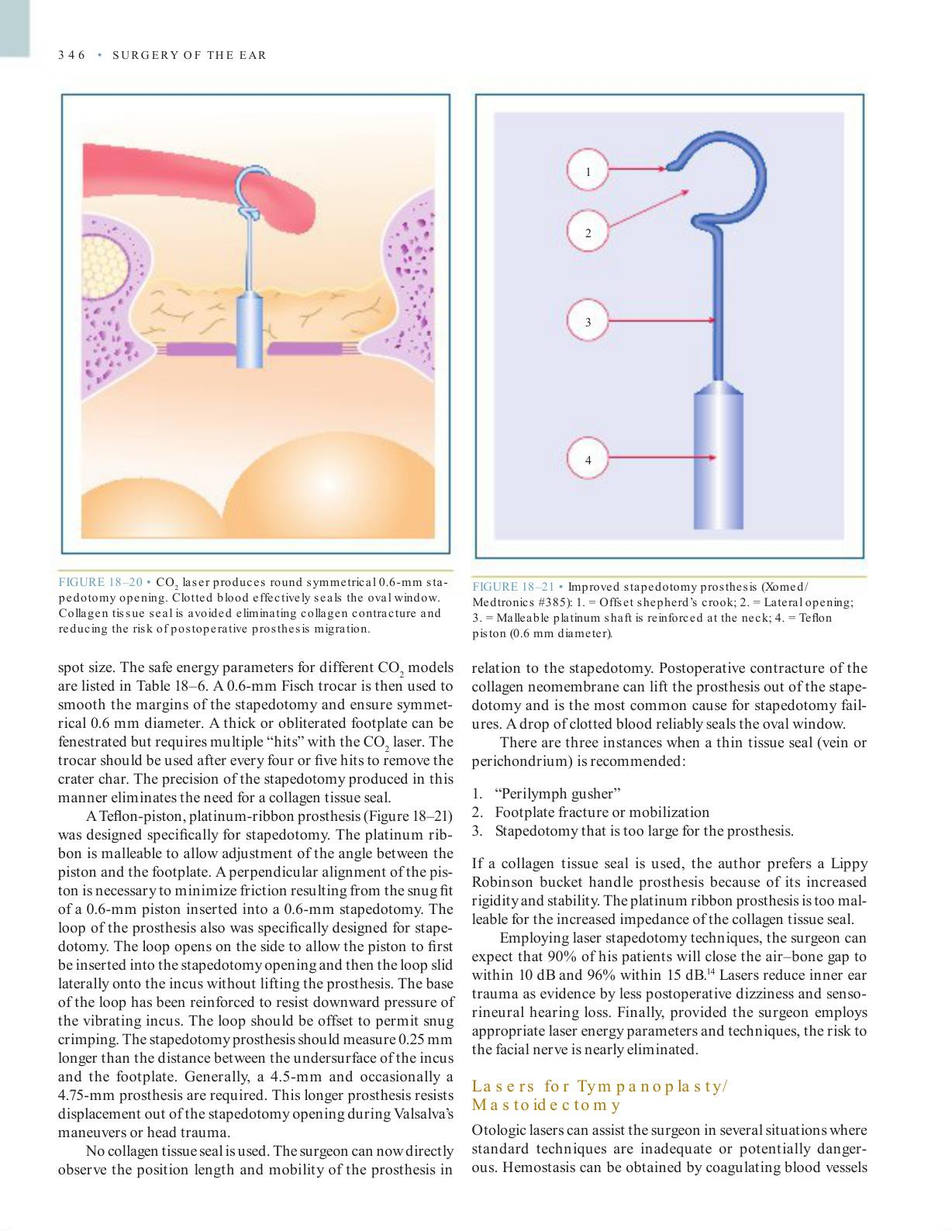caption: (57, 575, 450, 637), (471, 580, 856, 640)
header: (111, 48, 269, 61)
image: (67, 100, 447, 551), (482, 100, 857, 552)
sub-section-heading: (469, 1074, 732, 1115)
text: (54, 659, 457, 1180), (469, 659, 869, 1059), (470, 1120, 871, 1177)
